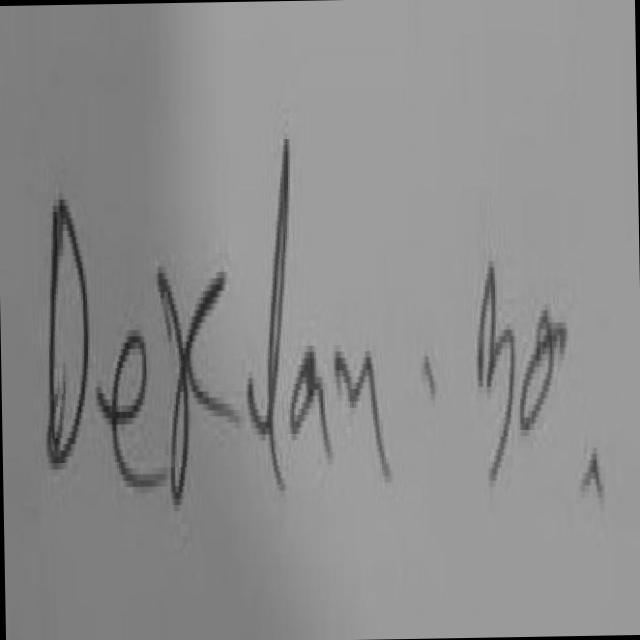D: (40, 152, 100, 530)
e: (99, 312, 164, 525)
x: (154, 218, 238, 538), (249, 102, 294, 493)
